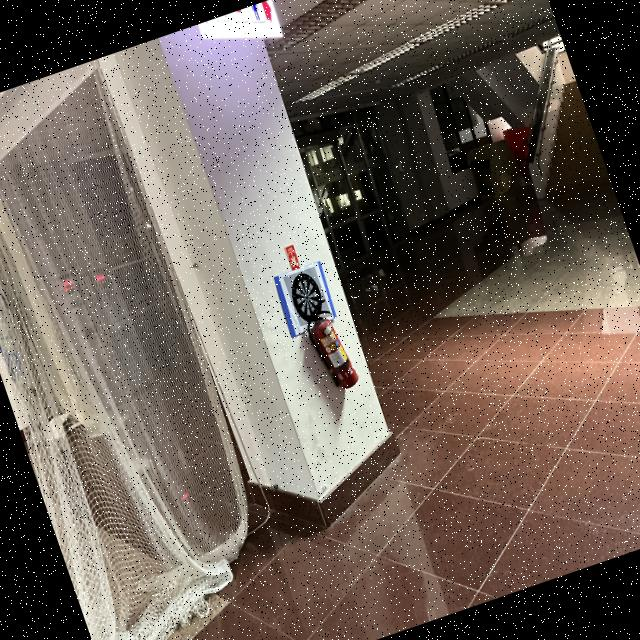archery-targets: (283, 266, 331, 326)
